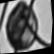not correct: (0, 0, 46, 54)
